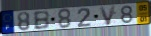2: (76, 7, 93, 29)
8: (57, 8, 73, 30), (120, 5, 135, 25), (17, 11, 31, 31)
B: (33, 10, 51, 31)
V: (98, 5, 117, 26)
